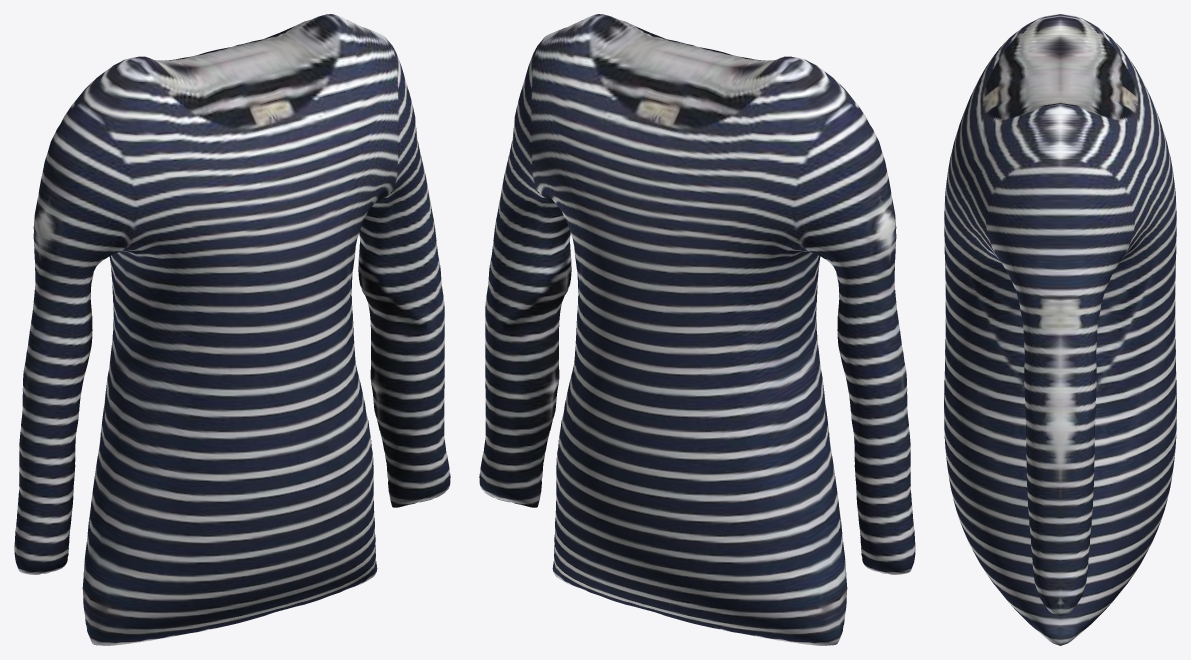
File: 4JO21D02V-K11@12=cloth_front.glb
3 views of the same model, side by side, from view 1: azimuth 30°, elevation 25°; view 2: azimuth 150°, elevation 25°; view 3: azimuth 270°, elevation 25° (orthographic). The views are drawn at different scales.
Bounding box in the file's own units: 4.59 × 5.83 × 2.32.
Materials: 1 (1 with a texture image).
